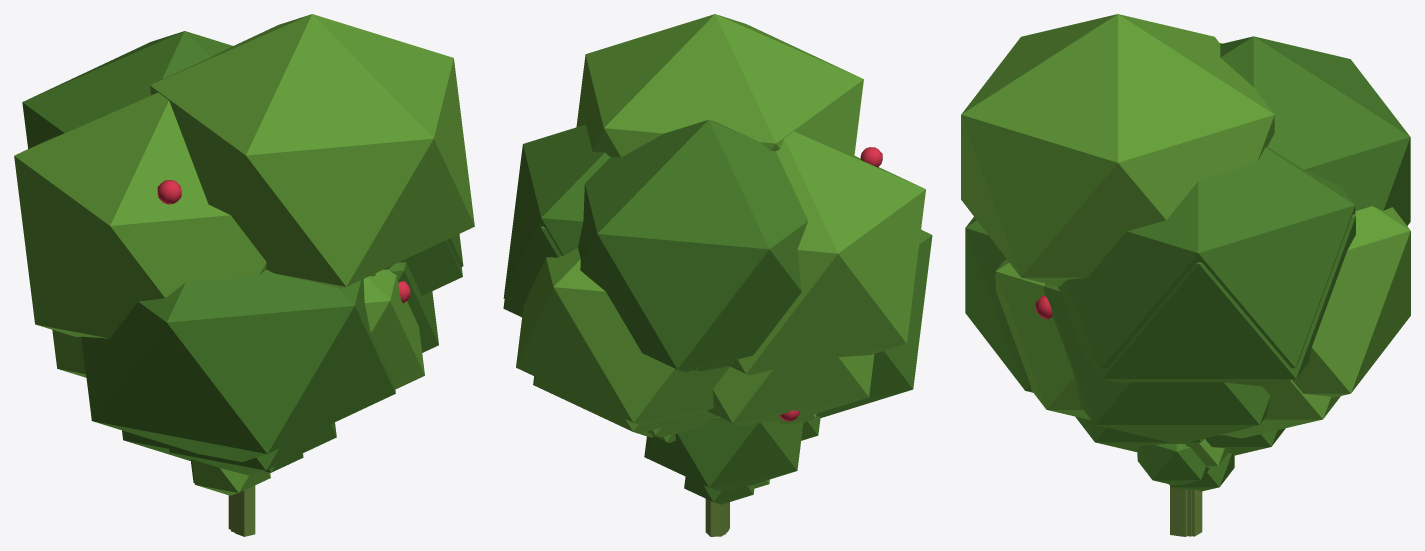
The model's file is Crop_Fruit_Raspberry.fbx.
The picture shows the model from 3 angles, left to right: view 1: azimuth 30°, elevation 25°; view 2: azimuth 150°, elevation 25°; view 3: azimuth 270°, elevation 25°; orthographic projection. The views are drawn at different scales.
Parts seen in each view (by area): view 1: Crop_Fruit_Raspberry__S4, Crop_Fruit_Raspberry__S3, Crop_Fruit_Raspberry__S2, Crop_Fruit_Raspberry__S1; view 2: Crop_Fruit_Raspberry__S4, Crop_Fruit_Raspberry__S3, Crop_Fruit_Raspberry__S2, Crop_Fruit_Raspberry__S1, Crop_Fruit_Raspberry__S5; view 3: Crop_Fruit_Raspberry__S4, Crop_Fruit_Raspberry__S3, Crop_Fruit_Raspberry__S1, Crop_Fruit_Raspberry__S2.
Part boxes in pixels (x1,y1,x2,y2): Crop_Fruit_Raspberry__S4: (14,14,474,461); Crop_Fruit_Raspberry__S3: (52,262,438,529); Crop_Fruit_Raspberry__S2: (122,422,336,529); Crop_Fruit_Raspberry__S1: (190,453,303,536); Crop_Fruit_Raspberry__S4: (503,14,932,425); Crop_Fruit_Raspberry__S3: (533,354,874,536); Crop_Fruit_Raspberry__S2: (644,413,820,535); Crop_Fruit_Raspberry__S1: (684,477,769,532); Crop_Fruit_Raspberry__S5: (648,418,726,534); Crop_Fruit_Raspberry__S4: (961,14,1410,536); Crop_Fruit_Raspberry__S3: (995,259,1340,536); Crop_Fruit_Raspberry__S1: (1137,438,1234,536); Crop_Fruit_Raspberry__S2: (1075,416,1285,536).
Size of the model in its own units: 0.2194 by 0.2696 by 0.2049.
